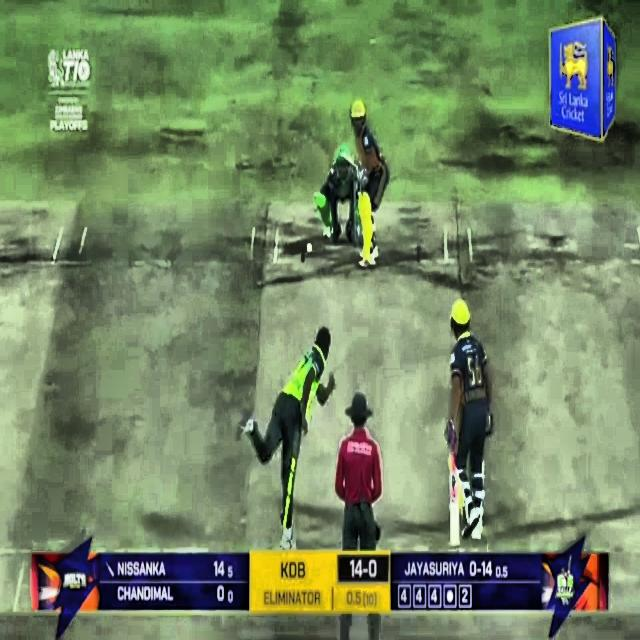Left-stump: (354, 181, 356, 246)
Middle-stump: (360, 225, 363, 244)
